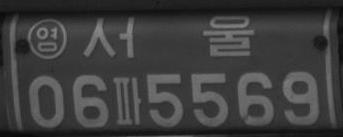0: (27, 74, 64, 129)
5: (145, 72, 184, 128), (190, 72, 228, 128)
6: (236, 71, 274, 128), (71, 73, 109, 128)
9: (282, 70, 321, 126)
서울_D: (82, 13, 255, 59)
영: (28, 17, 67, 60)
파: (112, 75, 141, 125)
